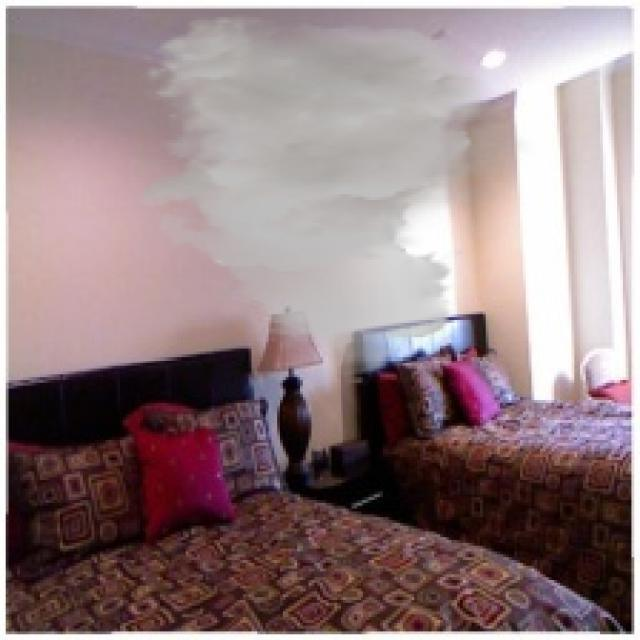Smoke: (137, 14, 537, 386)
